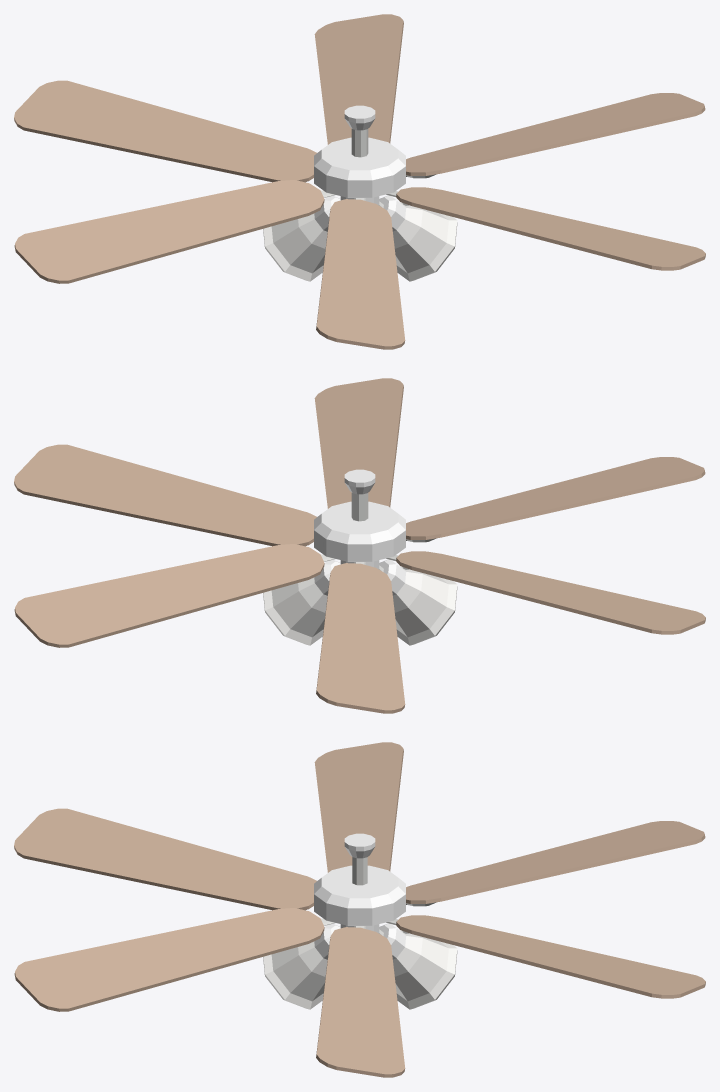
The model's file is Prop_Misc_Ceiling_Fan_6.fbx.
3 views of the same model, one above another, from view 1: azimuth 30°, elevation 25°; view 2: azimuth 150°, elevation 25°; view 3: azimuth 270°, elevation 25° (orthographic).
Parts seen in each view (by area): view 1: object1.039, object2.024, object6.002, object9.001, object12.001, object3.019, object21, object13.001, object18.001, object14.001; view 2: object9.001, object3.019, object2.024, object12.001, object1.039, object6.002, object21, object22, object13.001, object20.001; view 3: object12.001, object6.002, object3.019, object1.039, object9.001, object2.024, object21, object18.001, object22, object16.001.
Boxes of the visible parts, bbox=[...] form: object1.039: bbox=[14, 180, 324, 283]; object2.024: bbox=[14, 80, 316, 182]; object6.002: bbox=[316, 199, 405, 349]; object9.001: bbox=[314, 14, 403, 144]; object12.001: bbox=[396, 187, 705, 270]; object3.019: bbox=[406, 93, 705, 175]; object21: bbox=[314, 105, 405, 204]; object13.001: bbox=[393, 202, 457, 281]; object18.001: bbox=[263, 213, 327, 281]; object14.001: bbox=[378, 195, 406, 231]; object9.001: bbox=[14, 544, 324, 647]; object3.019: bbox=[14, 444, 316, 546]; object2.024: bbox=[316, 563, 405, 713]; object12.001: bbox=[314, 378, 403, 508]; object1.039: bbox=[396, 551, 705, 634]; object6.002: bbox=[406, 457, 705, 539]; object21: bbox=[314, 469, 405, 568]; object22: bbox=[393, 566, 457, 645]; object13.001: bbox=[263, 577, 327, 645]; object20.001: bbox=[378, 559, 406, 595]; object12.001: bbox=[14, 908, 324, 1011]; object6.002: bbox=[14, 808, 316, 910]; object3.019: bbox=[316, 927, 405, 1077]; object1.039: bbox=[314, 742, 403, 872]; object9.001: bbox=[396, 915, 705, 998]; object2.024: bbox=[406, 821, 705, 903]; object21: bbox=[314, 833, 405, 932]; object18.001: bbox=[393, 930, 457, 1009]; object22: bbox=[263, 941, 327, 1009]; object16.001: bbox=[378, 923, 406, 959].
Bounding box in the file's own units: 250 × 62.66 × 225.
